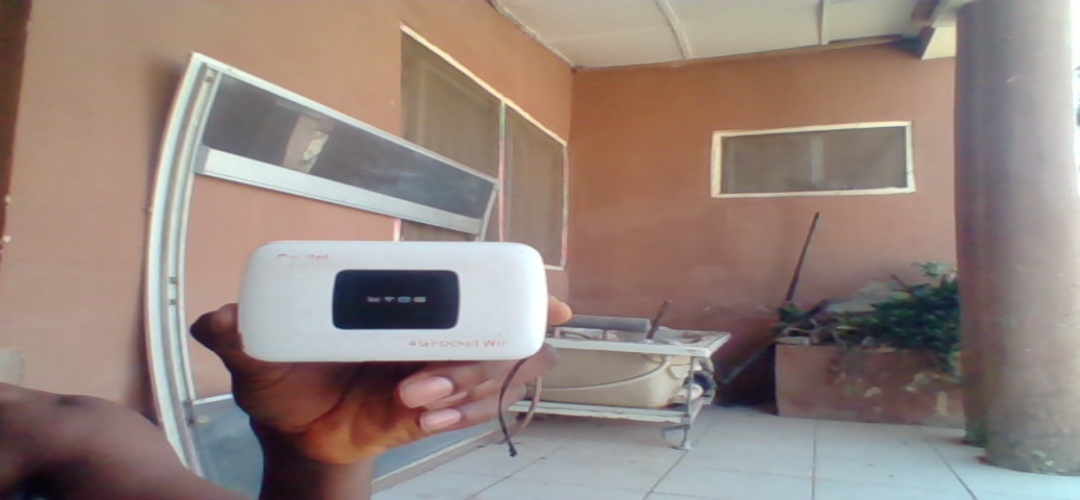mifi: (237, 234, 552, 367)
